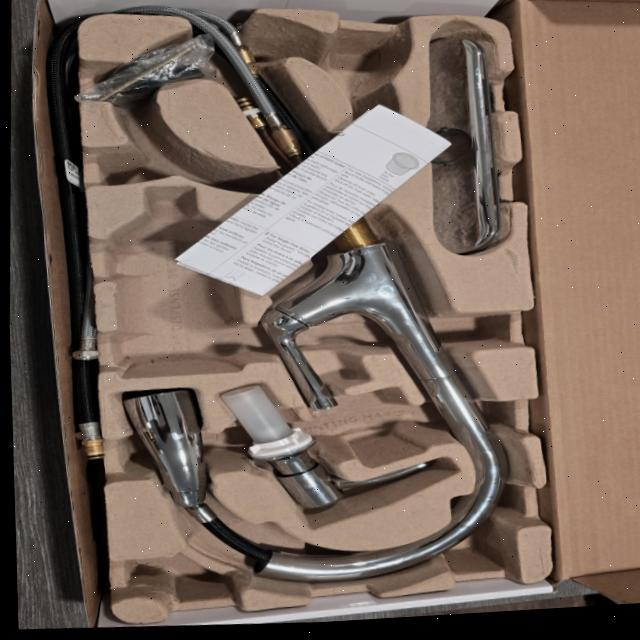1o: (123, 14, 510, 583)
2: (222, 384, 430, 511)
3m: (106, 184, 245, 377)
4o: (421, 37, 501, 252)
5m: (323, 35, 388, 89)
6m: (102, 132, 238, 190)
7: (77, 34, 215, 111)
8: (174, 104, 454, 297)
